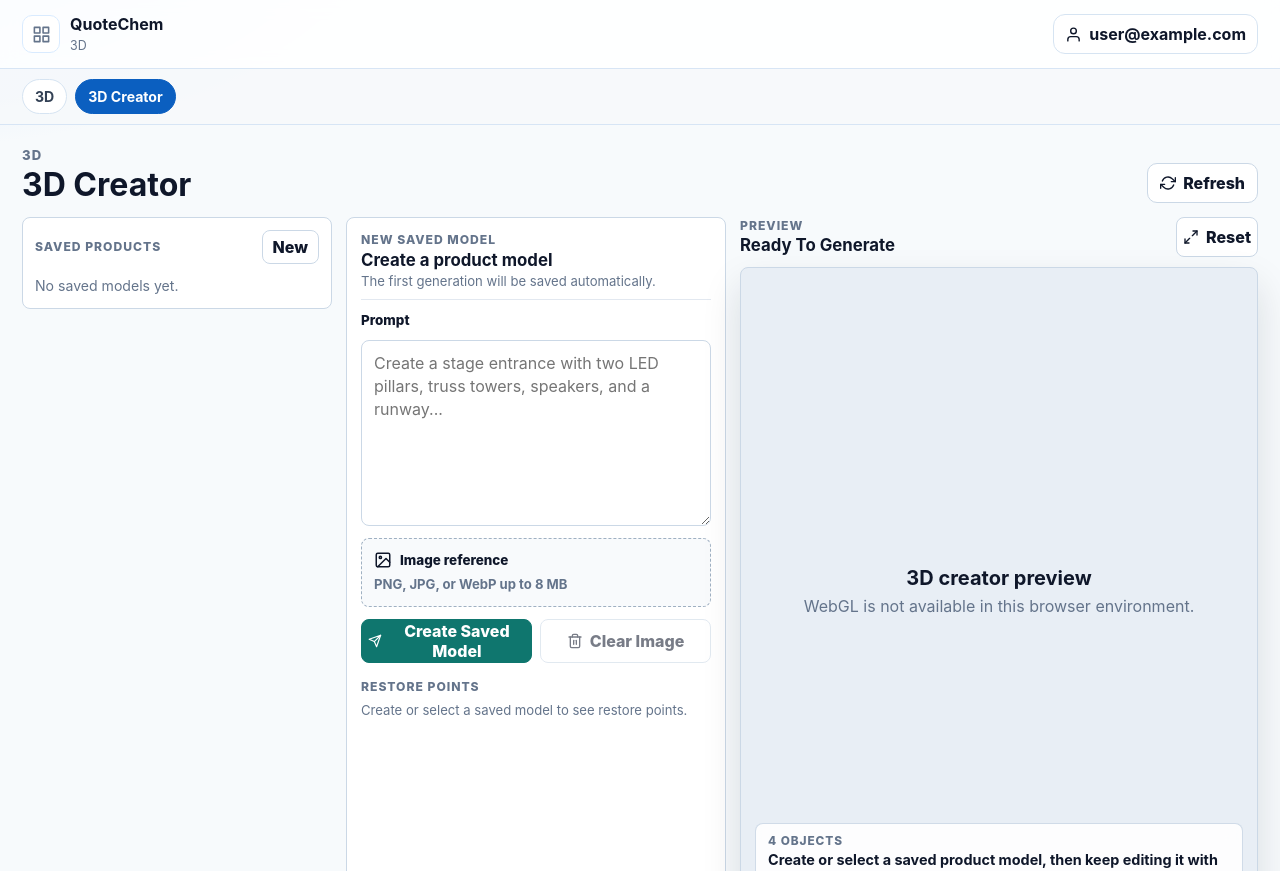
Test: mini-app portal routing › 3D Creator keeps a created model visible when refresh fails after save
Check: the text "No saved models yet." is shown, box [35,277,178,294]
Replace the text in the text box labelled "Prompt" with "Create a saved stage model." at (536, 433), box [361,340,711,526]
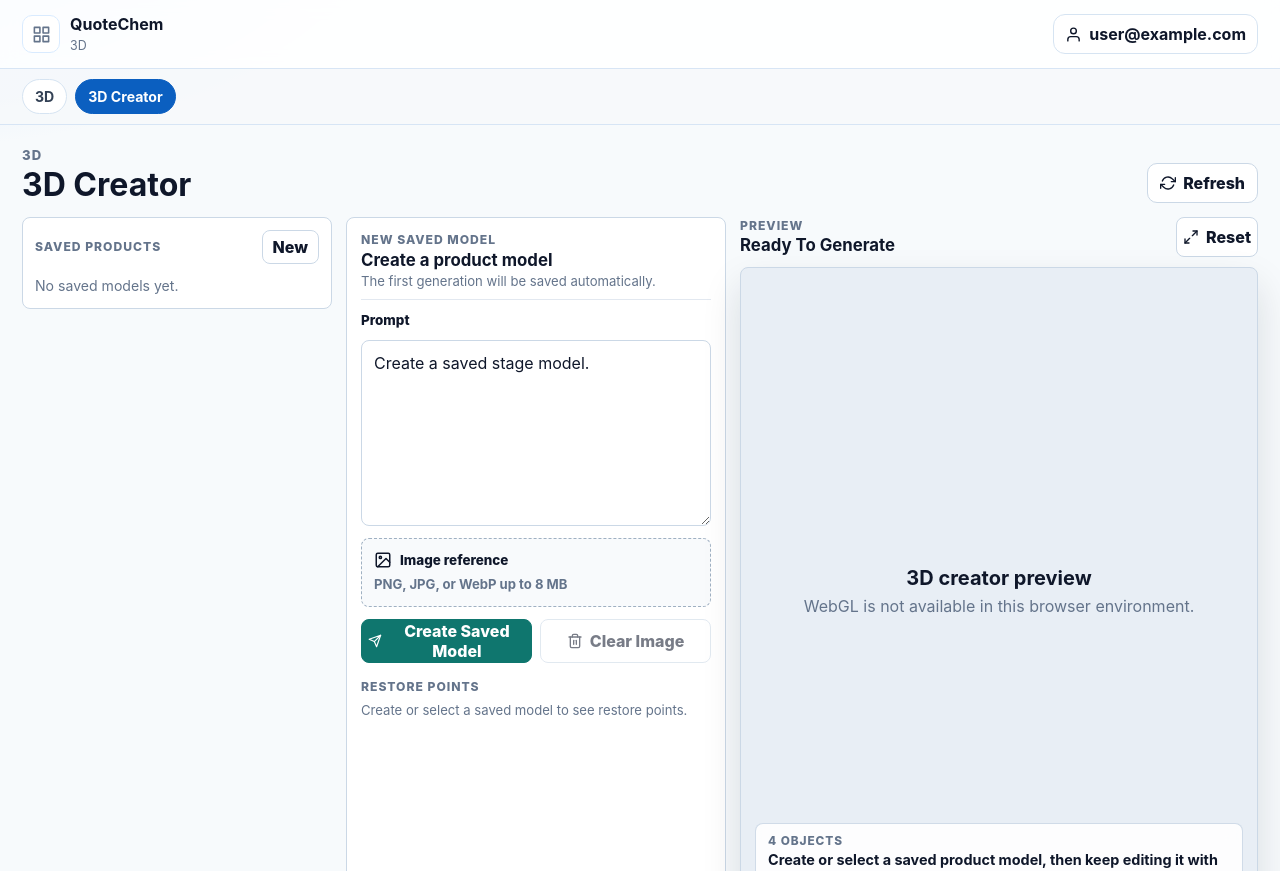
Click the button "Create Saved Model" at (446, 641), box [361,619,532,663]
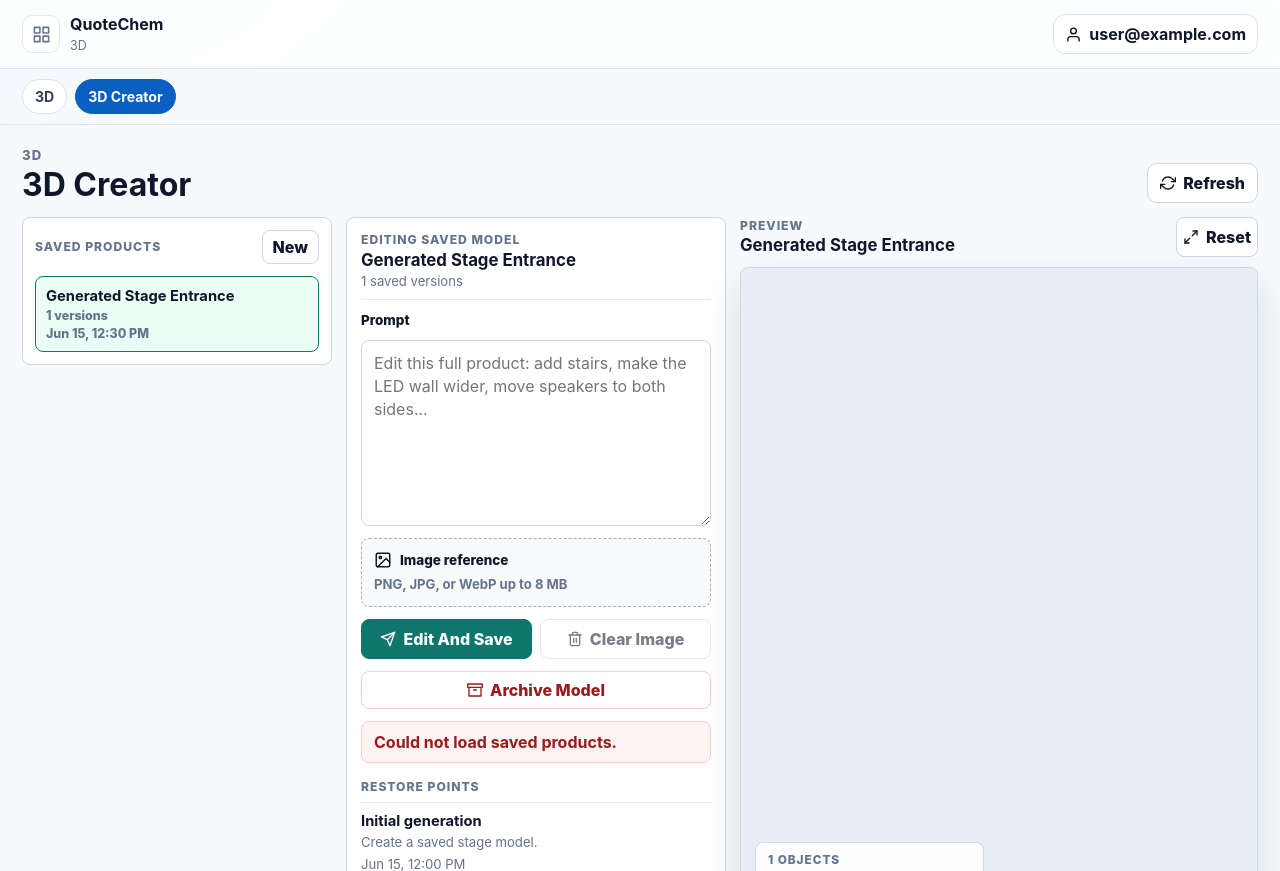
Check: the button "Generated Stage Entrance 1 versions Jun 15, 12:30 PM" is shown, box [35,276,319,352]
